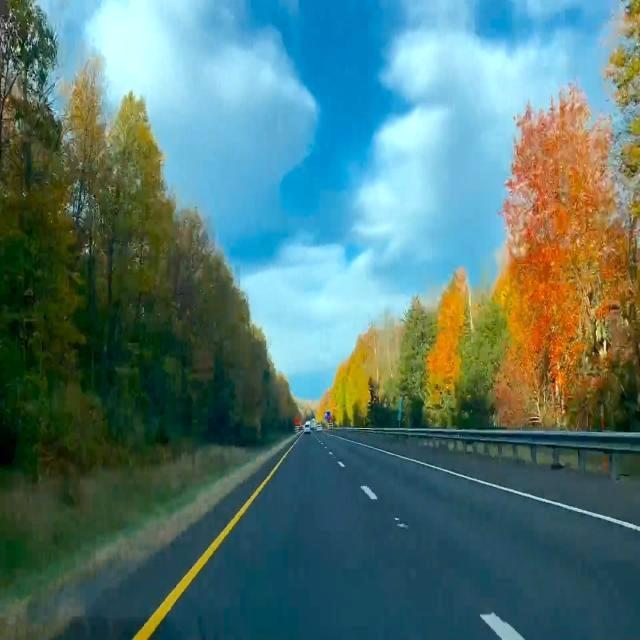road: (152, 430, 639, 639), (55, 460, 273, 639)
